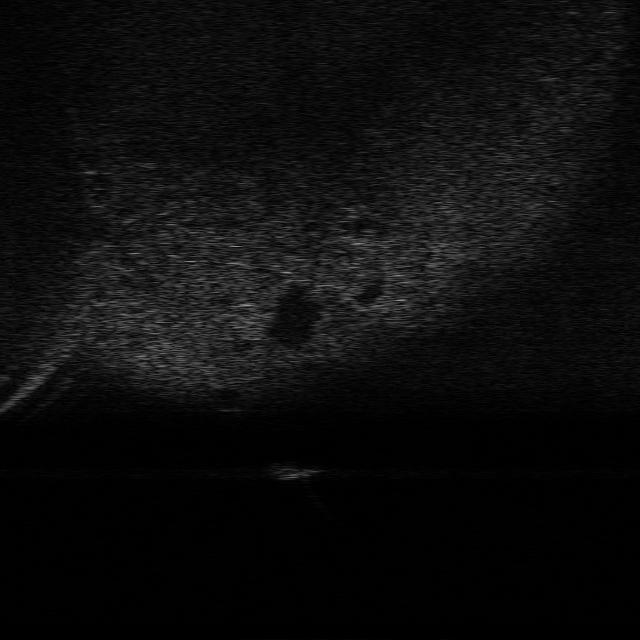cube: (264, 461, 318, 481)
